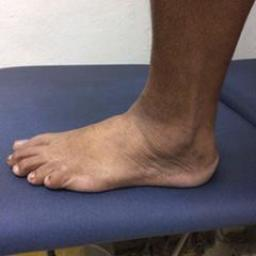Lateral View -Left Foot-: (3, 80, 233, 202)
